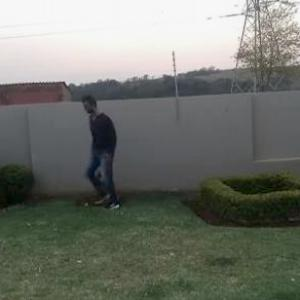follow: (90, 96, 122, 202)
